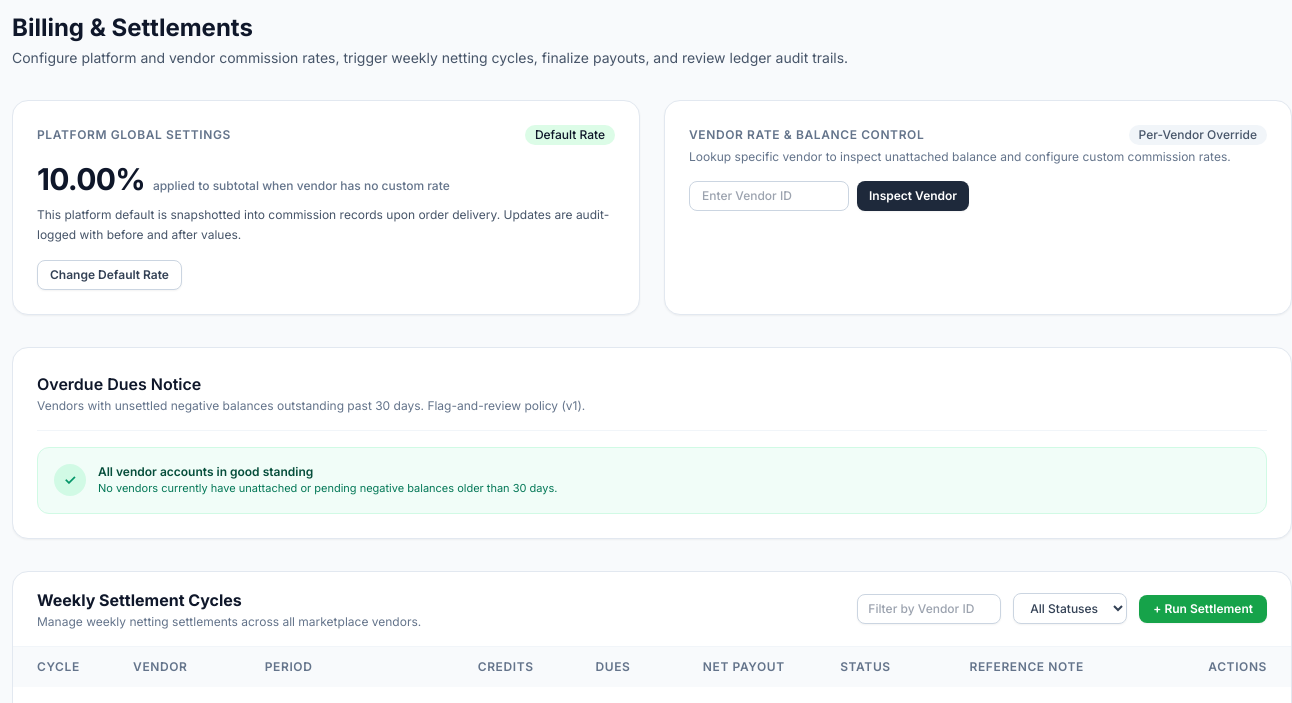
AdminBillingPage › renders vendor rate override card and supports lookup
Expected: the element with test id "vendor-rate-override-card" is shown, x1=664 y1=100 x2=1291 y2=315
Type "2" into the number field with placeholder "Enter Vendor ID". click: point(769, 196)
box: x1=689 y1=181 x2=849 y2=211
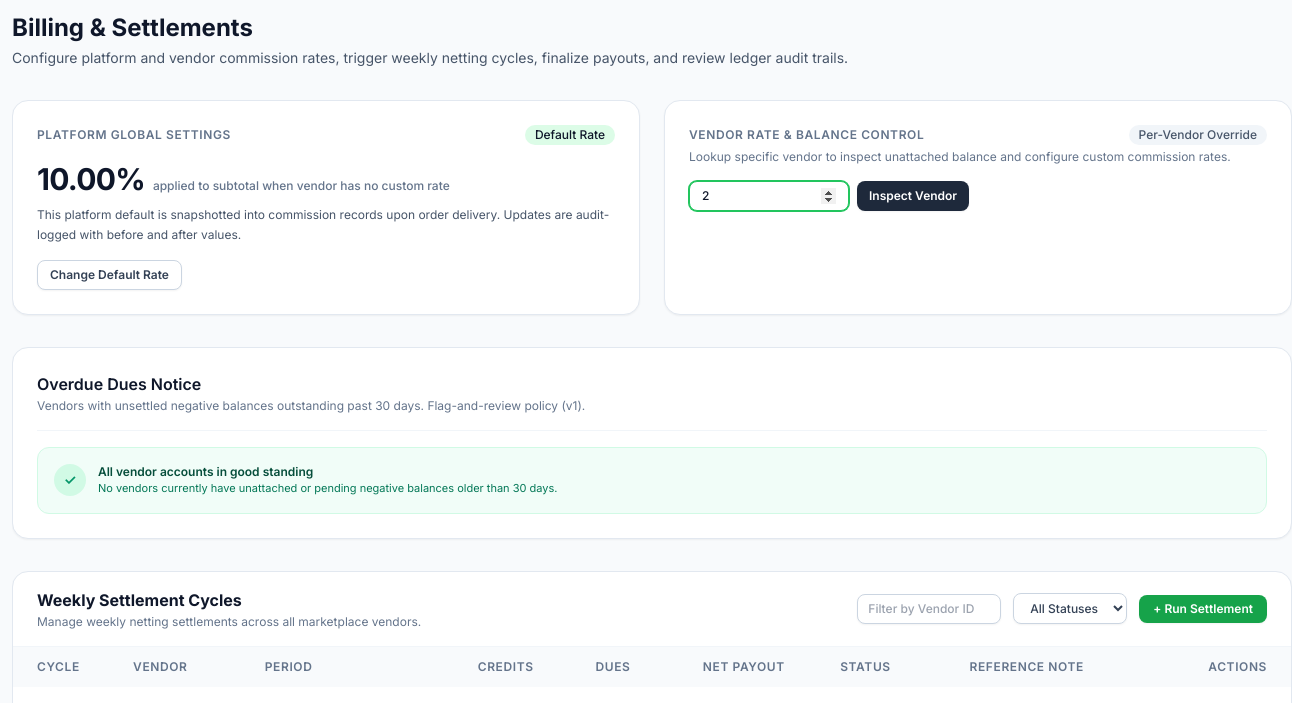
Click the button "Inspect Vendor". click: point(913, 196)
box: x1=857 y1=181 x2=969 y2=211
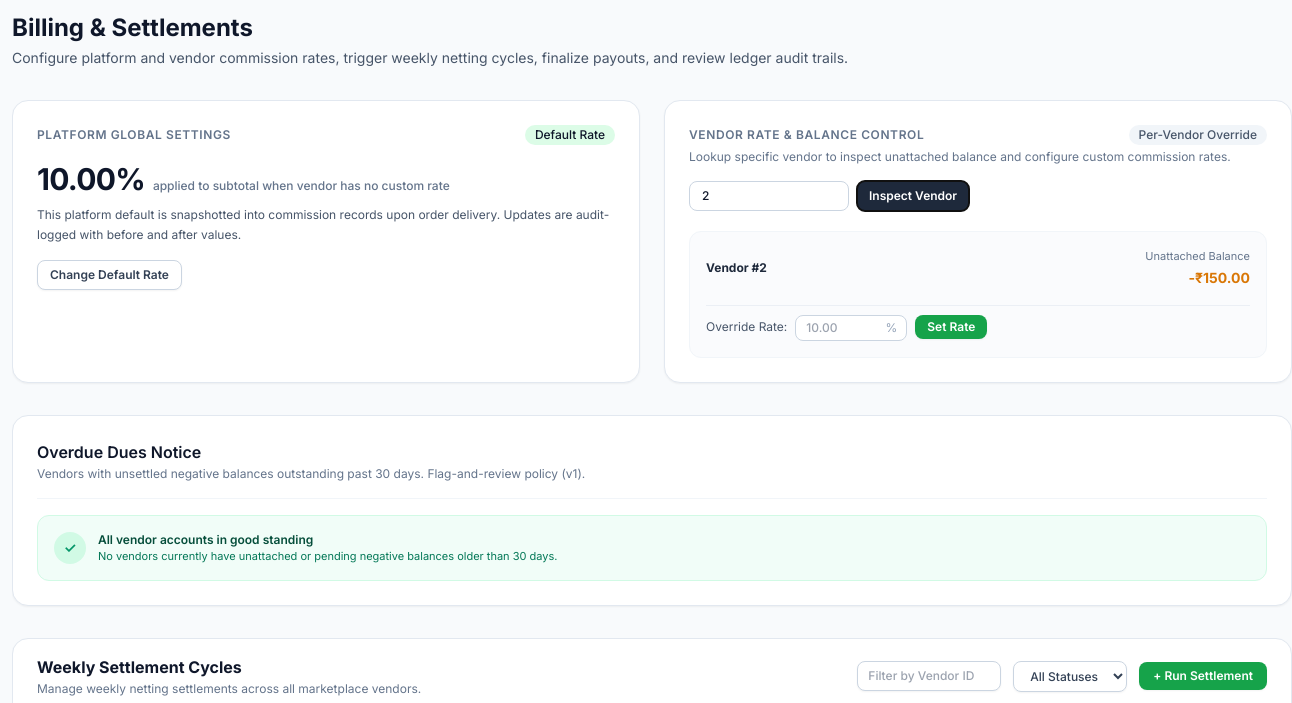
Expected: the element with test id "vendor-rate-override-card" shows "Vendor #2", x1=706 y1=260 x2=767 y2=275
Expected: the element with test id "vendor-rate-override-card" shows "-₹150.00", x1=1188 y1=268 x2=1250 y2=286
